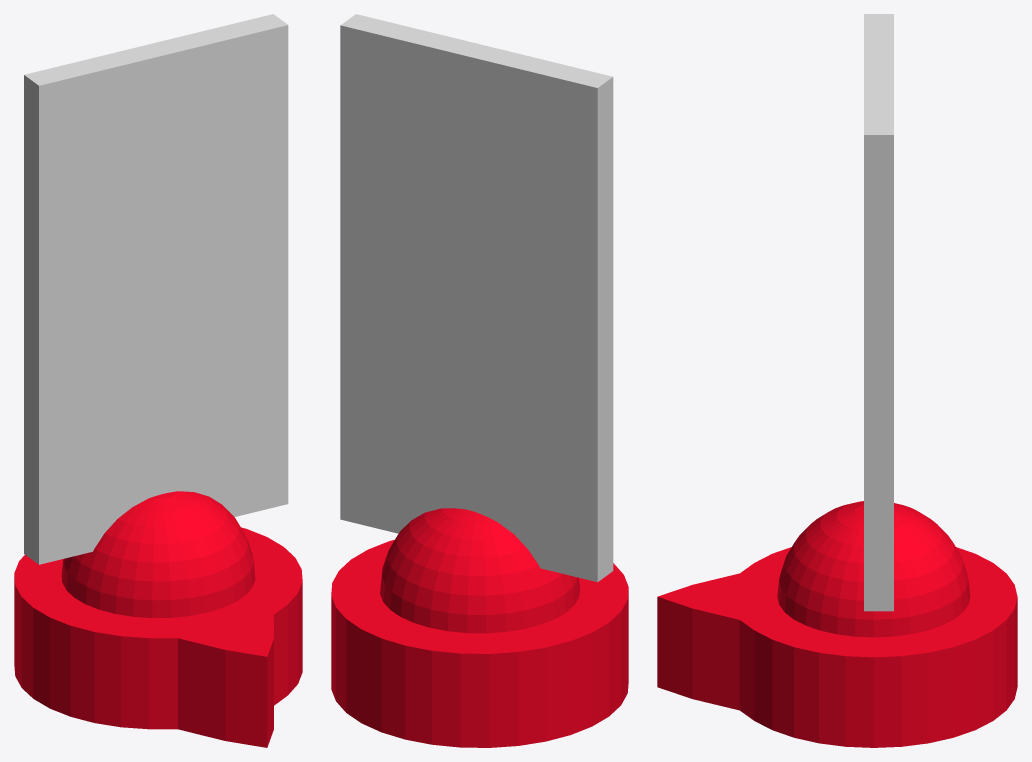
File: Brik3.fbx
The picture shows the model from 3 angles, left to right: view 1: azimuth 30°, elevation 25°; view 2: azimuth 150°, elevation 25°; view 3: azimuth 270°, elevation 25°; orthographic projection. The views are drawn at different scales.
Visible parts, largest first — view 1: Cube.001, Cube; view 2: Cube.001, Cube; view 3: Cube, Cube.001.
Part boxes in pixels (x1=…): Cube.001: x1=24, y1=14, x2=288, y2=564; Cube: x1=14, y1=491, x2=302, y2=747; Cube.001: x1=340, y1=14, x2=613, y2=582; Cube: x1=331, y1=508, x2=628, y2=747; Cube: x1=657, y1=501, x2=1017, y2=747; Cube.001: x1=864, y1=14, x2=893, y2=611.
Bounding box in the file's own units: 200 × 471 × 251.
